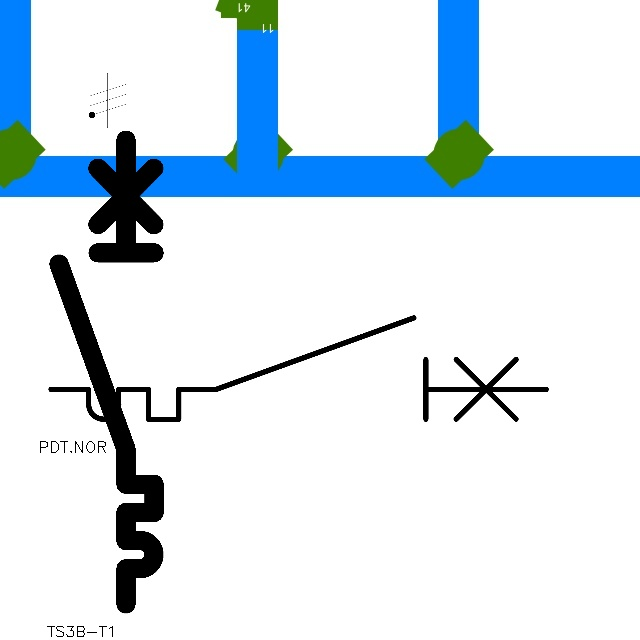interruptor_termomagnetico: (38, 305, 559, 432), (47, 128, 166, 616)
